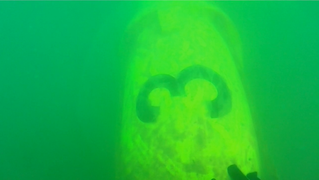3: (135, 65, 233, 123)
pipe: (120, 1, 262, 179)
